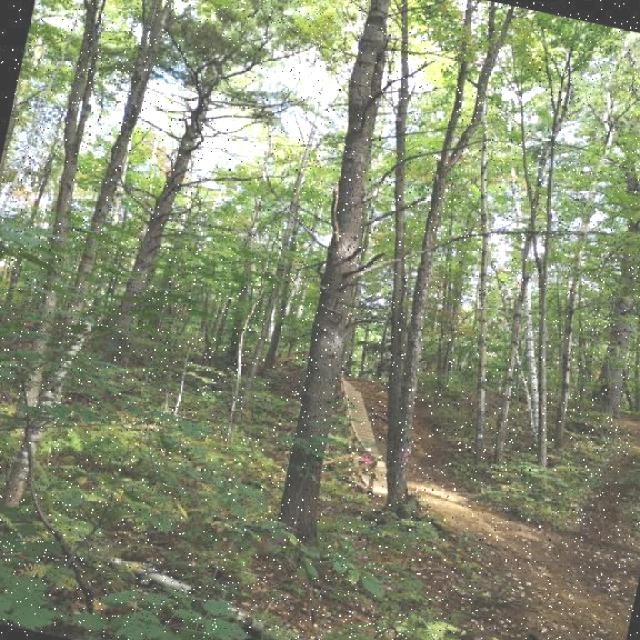fallen_object: (31, 503, 467, 640)
